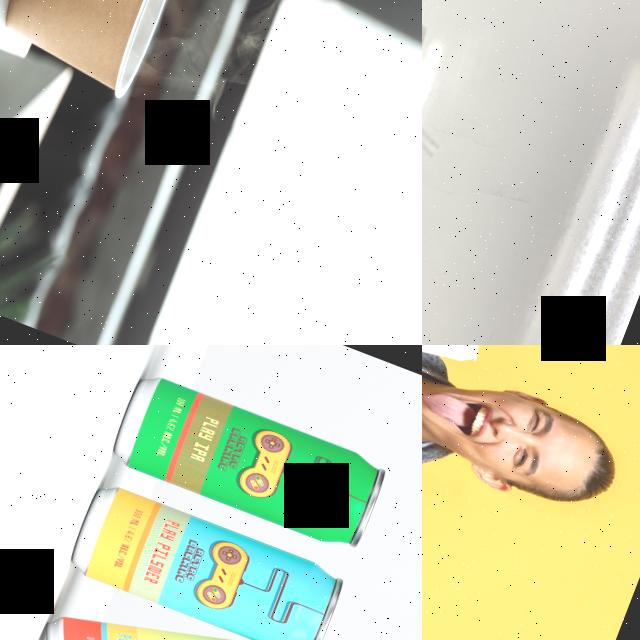can: (104, 369, 390, 555), (63, 479, 349, 640), (17, 567, 336, 640)
cup: (0, 0, 191, 106)
